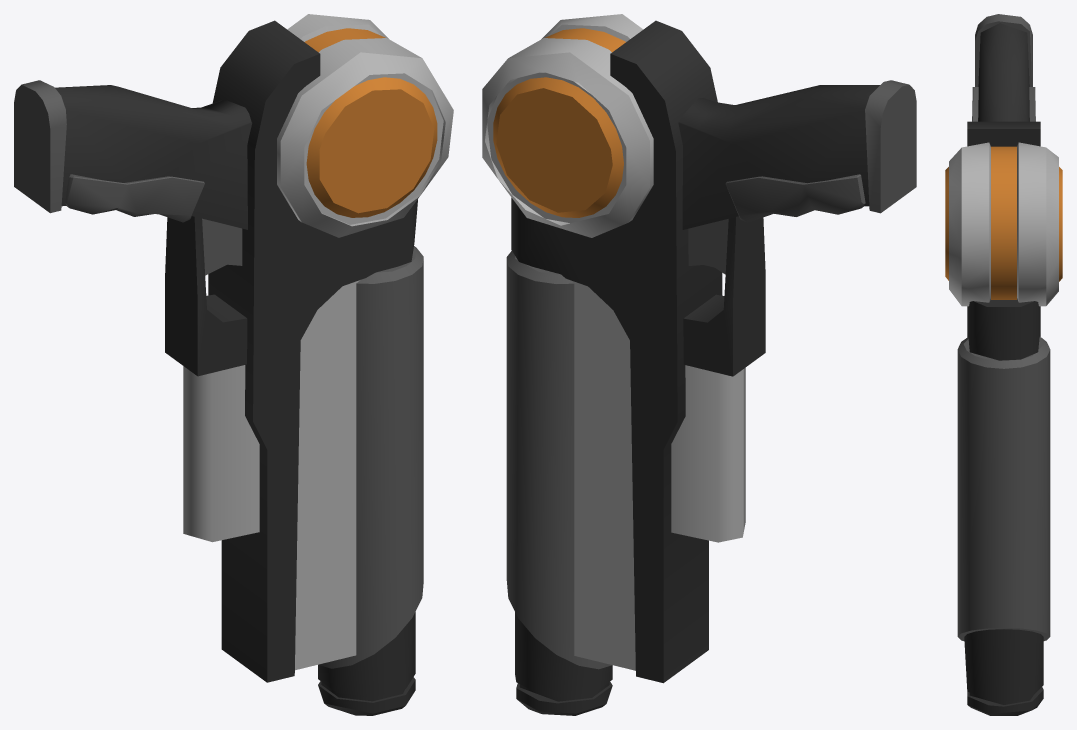
The model's file is qg-pistol-1-lod2.glb.
3 renders of one model, left to right at view 1: azimuth 30°, elevation 25°; view 2: azimuth 150°, elevation 25°; view 3: azimuth 270°, elevation 25°, orthographic. The views are drawn at different scales.
Visible parts, largest first — view 1: WeaponMesh_qg-pistol-1_Pistol_1; view 2: WeaponMesh_qg-pistol-1_Pistol_1; view 3: WeaponMesh_qg-pistol-1_Pistol_1.
Boxes of the visible parts, x1,y1,x2,y2 form: WeaponMesh_qg-pistol-1_Pistol_1: (14, 14, 453, 715); WeaponMesh_qg-pistol-1_Pistol_1: (482, 14, 916, 715); WeaponMesh_qg-pistol-1_Pistol_1: (945, 14, 1062, 715).
Bounding box in the file's own units: 0.3719 × 0.62 × 0.1182.
